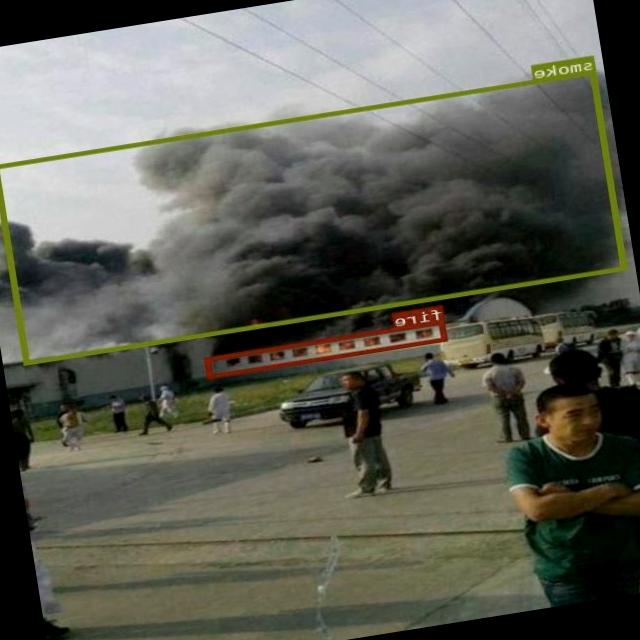fire: (206, 319, 449, 378)
smoke: (0, 69, 627, 364)
